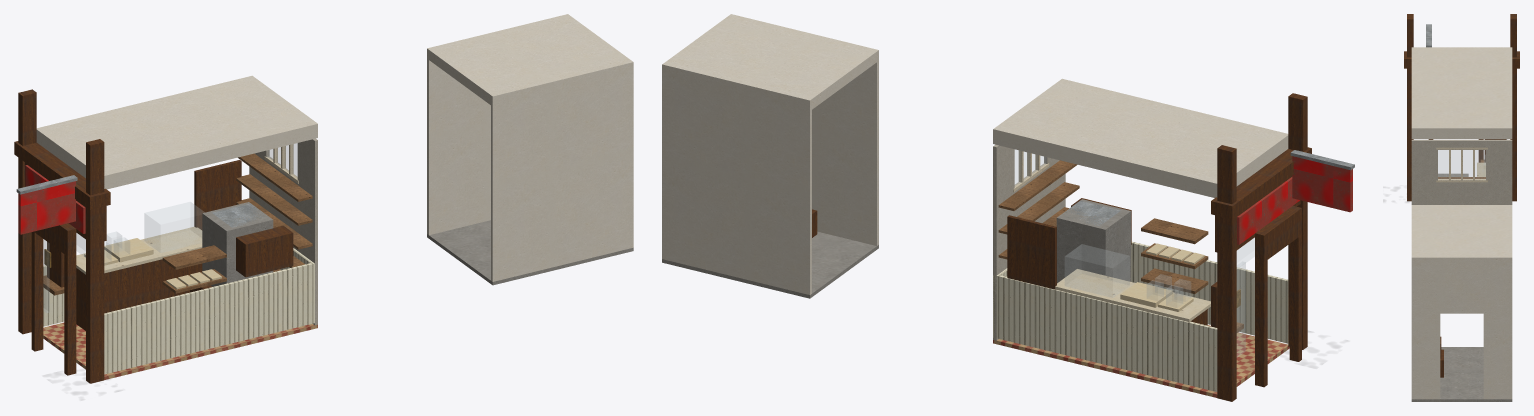
The model's file is shop_news_cigars.gltf.
3 renders of one model, left to right at view 1: azimuth 30°, elevation 25°; view 2: azimuth 150°, elevation 25°; view 3: azimuth 270°, elevation 25°, orthographic. The views are drawn at different scales.
Visible parts, largest first — view 1: F01_OWN_SHOP_NEWS_CIGARS_retail_shop_news_cigars_plaster-col, F01_OWN_SHOP_NEWS_CIGARS_retail_shop_news_cigars_wood_dark-c, F01_OWN_SHOP_NEWS_CIGARS_retail_shop_news_cigars_wainscot-co, F01_OWN_SHOP_NEWS_CIGARS_retail_shop_news_cigars_timber-col, F01_OWN_SHOP_NEWS_CIGARS_retail_shop_news_cigars_glassish-co, F01_OWN_SHOP_NEWS_CIGARS_retail_shop_news_cigars_plaster_sta, F01_OWN_SHOP_NEWS_CIGARS_retail_shop_news_cigars_safety_oran, F01_OWN_SHOP_NEWS_CIGARS_retail_shop_news_cigars_concrete-co, F01_OWN_SHOP_NEWS_CIGARS_retail_shop_news_cigars_hull-colonl, F01_OWN_SHOP_NEWS_CIGARS_retail_shop_news_cigars_linoleum-co, F01_OWN_SHOP_NEWS_CIGARS_retail_shop_news_cigars_countertop-, F01_OWN_SHOP_NEWS_CIGARS_retail_shop_news_cigars_paper-col (+1 smaller); view 2: F01_OWN_SHOP_NEWS_CIGARS_retail_shop_news_cigars_plaster-col, F01_OWN_SHOP_NEWS_CIGARS_retail_shop_news_cigars_wainscot-co, F01_OWN_SHOP_NEWS_CIGARS_retail_shop_news_cigars_wood_dark-c, F01_OWN_SHOP_NEWS_CIGARS_retail_shop_news_cigars_glassish-co, F01_OWN_SHOP_NEWS_CIGARS_retail_shop_news_cigars_timber-col, F01_OWN_SHOP_NEWS_CIGARS_retail_shop_news_cigars_hull-colonl, F01_OWN_SHOP_NEWS_CIGARS_retail_shop_news_cigars_safety_oran, F01_OWN_SHOP_NEWS_CIGARS_retail_shop_news_cigars_plaster_sta, F01_OWN_SHOP_NEWS_CIGARS_retail_shop_news_cigars_concrete-co, F01_OWN_SHOP_NEWS_CIGARS_retail_shop_news_cigars_linoleum-co, F01_OWN_SHOP_NEWS_CIGARS_retail_shop_news_cigars_countertop-, F01_OWN_SHOP_NEWS_CIGARS_retail_shop_news_cigars_paper-col (+2 smaller); view 3: F01_OWN_SHOP_NEWS_CIGARS_retail_shop_news_cigars_plaster-col, F01_OWN_SHOP_NEWS_CIGARS_retail_shop_news_cigars_plaster_sta, F01_OWN_SHOP_NEWS_CIGARS_retail_shop_news_cigars_concrete-co, F01_OWN_SHOP_NEWS_CIGARS_retail_shop_news_cigars_wood_dark-c, F01_OWN_SHOP_NEWS_CIGARS_retail_shop_news_cigars_glassish-co, F01_OWN_SHOP_NEWS_CIGARS_retail_shop_news_cigars_trim-col, F01_OWN_SHOP_NEWS_CIGARS_retail_shop_news_cigars_metal-col.
Boxes of the visible parts, bbox=[...] form: F01_OWN_SHOP_NEWS_CIGARS_retail_shop_news_cigars_plaster-col: bbox=[36, 14, 633, 281]; F01_OWN_SHOP_NEWS_CIGARS_retail_shop_news_cigars_wood_dark-c: bbox=[14, 89, 293, 383]; F01_OWN_SHOP_NEWS_CIGARS_retail_shop_news_cigars_wainscot-co: bbox=[43, 248, 314, 374]; F01_OWN_SHOP_NEWS_CIGARS_retail_shop_news_cigars_timber-col: bbox=[43, 153, 312, 295]; F01_OWN_SHOP_NEWS_CIGARS_retail_shop_news_cigars_glassish-co: bbox=[43, 143, 297, 312]; F01_OWN_SHOP_NEWS_CIGARS_retail_shop_news_cigars_plaster_sta: bbox=[249, 138, 317, 325]; F01_OWN_SHOP_NEWS_CIGARS_retail_shop_news_cigars_safety_oran: bbox=[18, 165, 85, 234]; F01_OWN_SHOP_NEWS_CIGARS_retail_shop_news_cigars_concrete-co: bbox=[427, 220, 633, 285]; F01_OWN_SHOP_NEWS_CIGARS_retail_shop_news_cigars_hull-colonl: bbox=[202, 202, 273, 286]; F01_OWN_SHOP_NEWS_CIGARS_retail_shop_news_cigars_linoleum-co: bbox=[43, 322, 317, 379]; F01_OWN_SHOP_NEWS_CIGARS_retail_shop_news_cigars_countertop-: bbox=[76, 226, 202, 274]; F01_OWN_SHOP_NEWS_CIGARS_retail_shop_news_cigars_paper-col: bbox=[84, 238, 221, 289]; F01_OWN_SHOP_NEWS_CIGARS_retail_shop_news_cigars_plaster-col: bbox=[662, 14, 1288, 294]; F01_OWN_SHOP_NEWS_CIGARS_retail_shop_news_cigars_wainscot-co: bbox=[993, 241, 1288, 391]; F01_OWN_SHOP_NEWS_CIGARS_retail_shop_news_cigars_wood_dark-c: bbox=[812, 93, 1311, 401]; F01_OWN_SHOP_NEWS_CIGARS_retail_shop_news_cigars_glassish-co: bbox=[1015, 150, 1254, 357]; F01_OWN_SHOP_NEWS_CIGARS_retail_shop_news_cigars_timber-col: bbox=[998, 160, 1243, 332]; F01_OWN_SHOP_NEWS_CIGARS_retail_shop_news_cigars_hull-colonl: bbox=[1056, 199, 1130, 283]; F01_OWN_SHOP_NEWS_CIGARS_retail_shop_news_cigars_safety_oran: bbox=[1237, 156, 1352, 244]; F01_OWN_SHOP_NEWS_CIGARS_retail_shop_news_cigars_plaster_sta: bbox=[993, 144, 1065, 340]; F01_OWN_SHOP_NEWS_CIGARS_retail_shop_news_cigars_concrete-co: bbox=[662, 231, 878, 298]; F01_OWN_SHOP_NEWS_CIGARS_retail_shop_news_cigars_linoleum-co: bbox=[993, 325, 1289, 397]; F01_OWN_SHOP_NEWS_CIGARS_retail_shop_news_cigars_countertop-: bbox=[1055, 269, 1210, 322]; F01_OWN_SHOP_NEWS_CIGARS_retail_shop_news_cigars_paper-col: bbox=[1120, 243, 1204, 311]; F01_OWN_SHOP_NEWS_CIGARS_retail_shop_news_cigars_plaster-col: bbox=[1411, 47, 1512, 399]; F01_OWN_SHOP_NEWS_CIGARS_retail_shop_news_cigars_plaster_sta: bbox=[1411, 139, 1512, 204]; F01_OWN_SHOP_NEWS_CIGARS_retail_shop_news_cigars_concrete-co: bbox=[1411, 347, 1512, 401]; F01_OWN_SHOP_NEWS_CIGARS_retail_shop_news_cigars_wood_dark-c: bbox=[1404, 14, 1519, 377]; F01_OWN_SHOP_NEWS_CIGARS_retail_shop_news_cigars_glassish-co: bbox=[1438, 139, 1507, 179]; F01_OWN_SHOP_NEWS_CIGARS_retail_shop_news_cigars_trim-col: bbox=[1436, 147, 1487, 182]; F01_OWN_SHOP_NEWS_CIGARS_retail_shop_news_cigars_metal-col: bbox=[1426, 24, 1431, 47].
Bounding box in the file's own units: 11.14 × 4.25 × 2.86.
26 materials, 24 textured.
